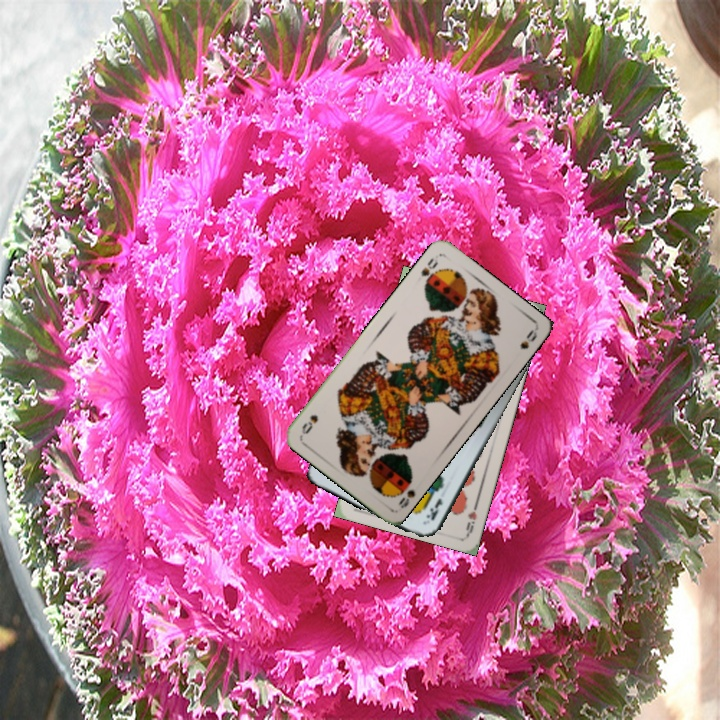EK: (422, 494, 445, 523)
H9: (462, 497, 481, 537)
SO: (393, 472, 418, 511), (417, 254, 441, 289)
